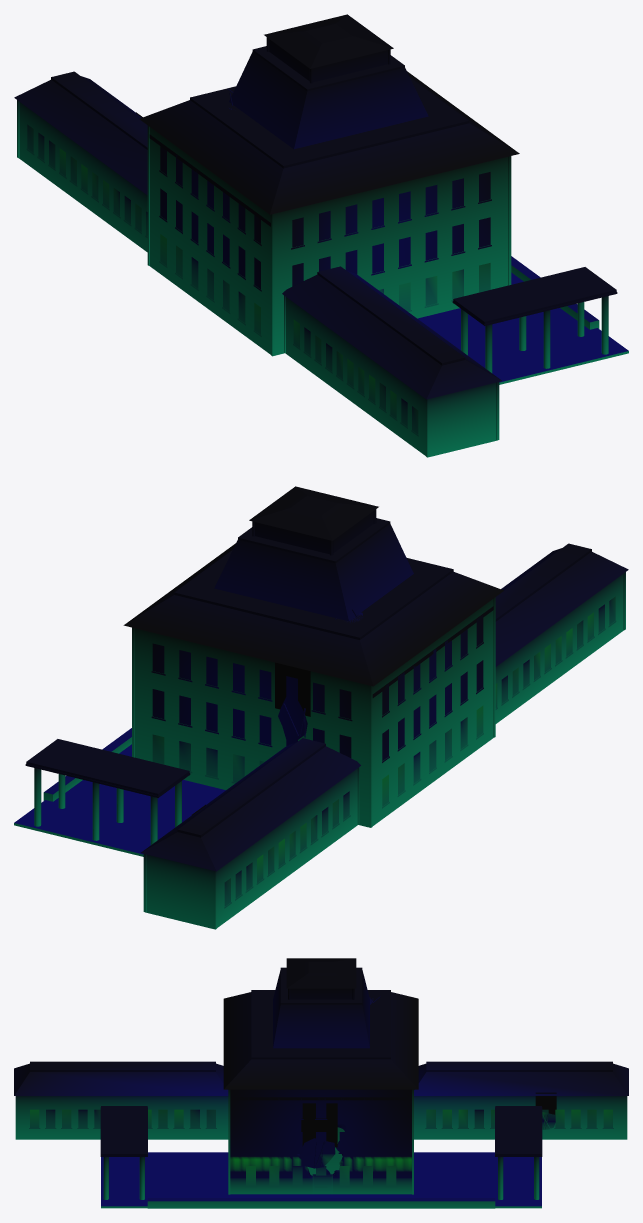
Rendered from s_gov1_damaged.glb.
3 renders of one model, top to bottom at view 1: azimuth 30°, elevation 25°; view 2: azimuth 150°, elevation 25°; view 3: azimuth 270°, elevation 25°, orthographic. The views are drawn at different scales.
Visible parts, largest first — view 1: lod0; view 2: lod0; view 3: lod0.
Boxes of the visible parts, x1,y1,x2,y2 form: lod0: (14, 14, 628, 457); lod0: (14, 486, 628, 929); lod0: (14, 958, 628, 1208).
Size of what is drawn, in the model's own units: 23.07 by 19.69 by 59.21.
